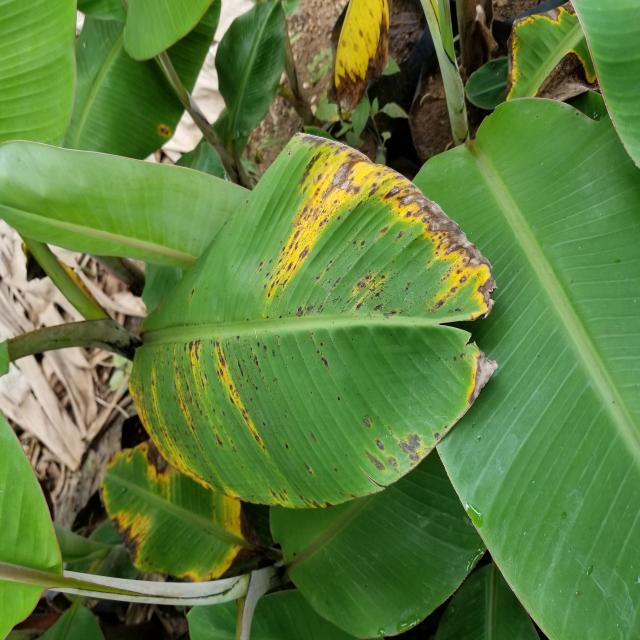Early_rust: (100, 309, 512, 531), (161, 123, 523, 335), (64, 433, 284, 591), (484, 0, 602, 146), (305, 0, 402, 104), (148, 105, 204, 164)
